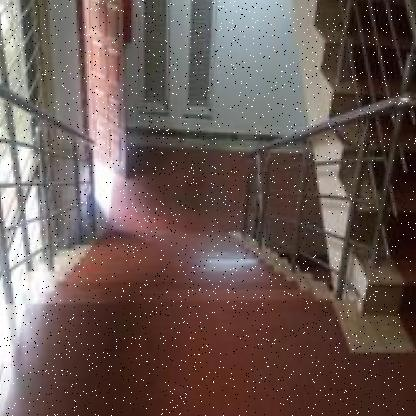stair_down: (7, 222, 323, 341)
